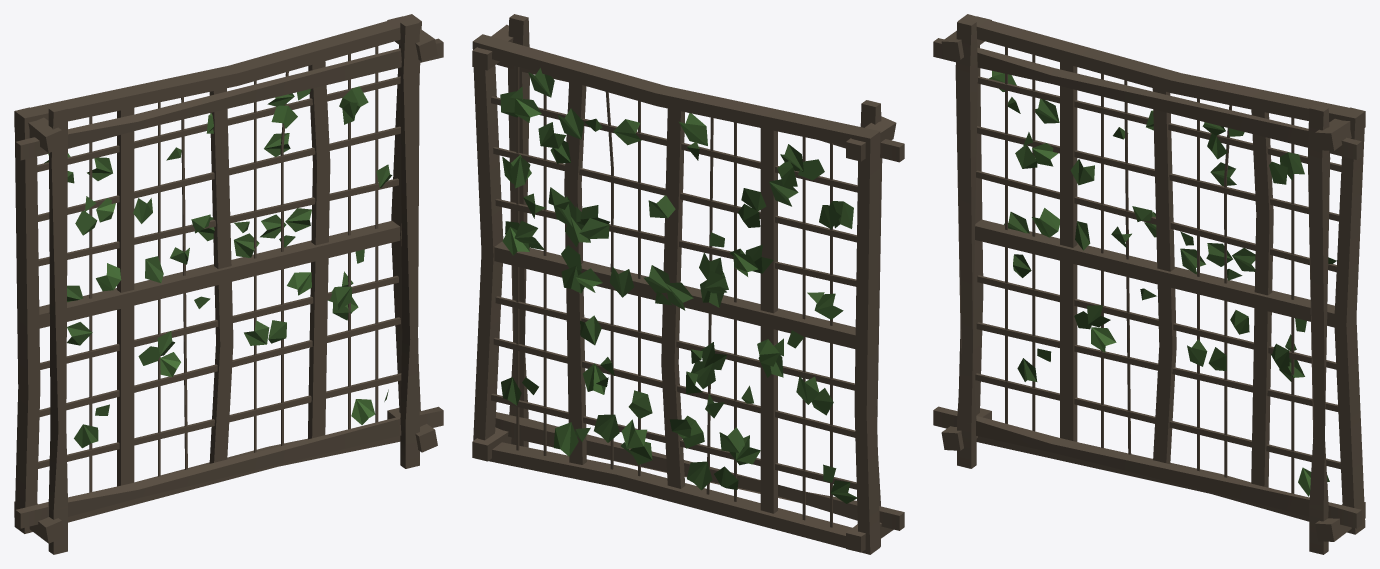
File: SM_Bld_Cuba_VineWall_01.glb
3 renders of one model, left to right at view 1: azimuth 30°, elevation 25°; view 2: azimuth 150°, elevation 25°; view 3: azimuth 330°, elevation 25°, orthographic.
Parts seen in each view (by area): view 1: SM_Bld_Cuba_VineWall_01; view 2: SM_Bld_Cuba_VineWall_01; view 3: SM_Bld_Cuba_VineWall_01.
Boxes of the visible parts, <box> form: SM_Bld_Cuba_VineWall_01: <box>14,14,443,554</box>; SM_Bld_Cuba_VineWall_01: <box>472,14,904,554</box>; SM_Bld_Cuba_VineWall_01: <box>933,14,1365,554</box>.
Size of the model in its own units: 0.0359 by 0.0359 by 0.00577.
